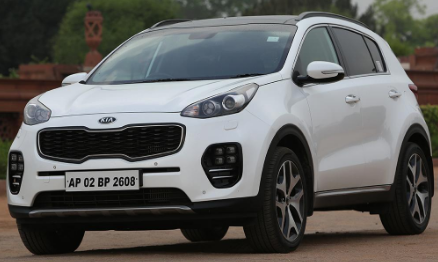car: (6, 11, 433, 256)
